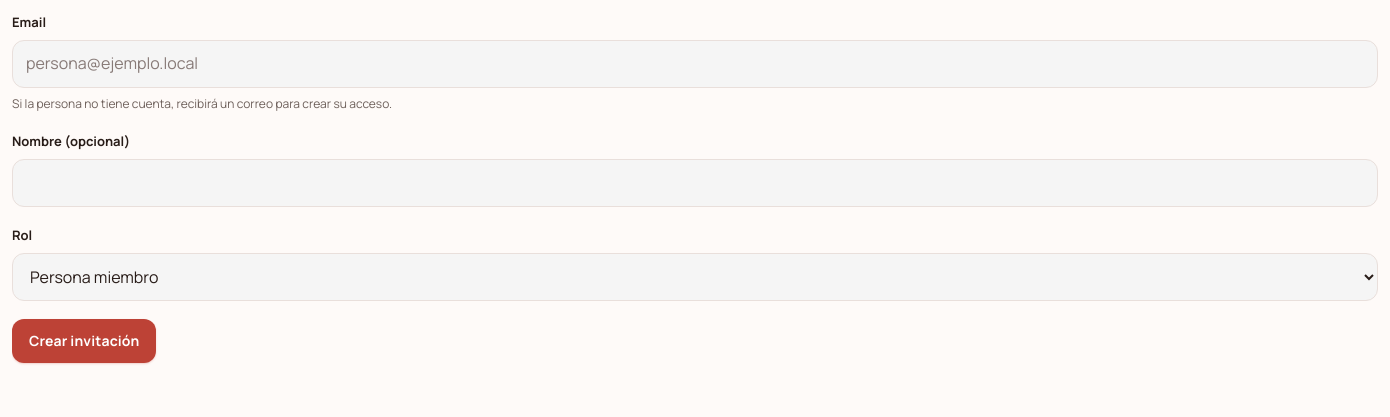
Test: InvitationForm › shows the email delivery message
Step 1. Type "invitee@example.test" into the field labelled "Email" → (695, 64), box [12,40,1378,88]
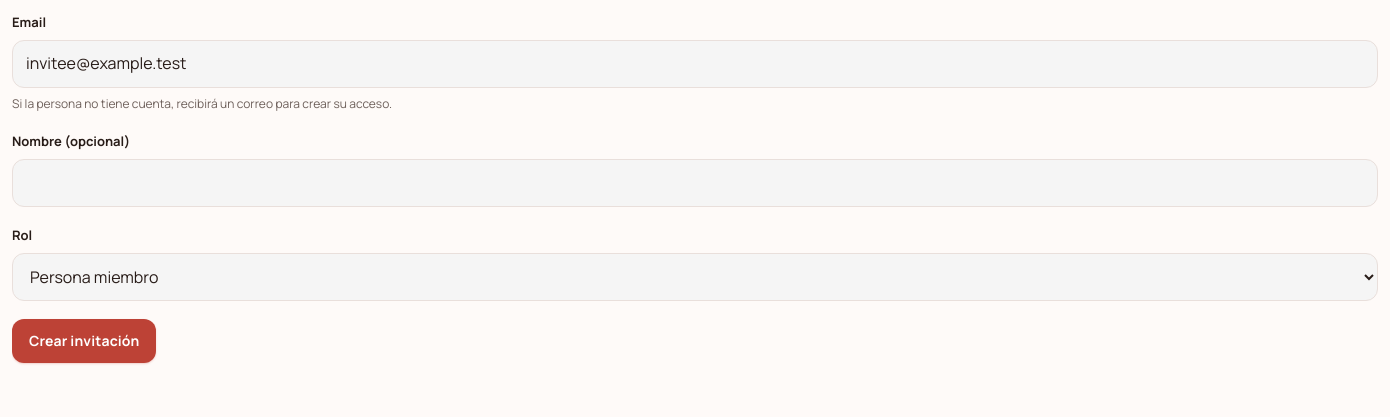
Step 2. Submit the form named "Invitar a una persona al hogar"
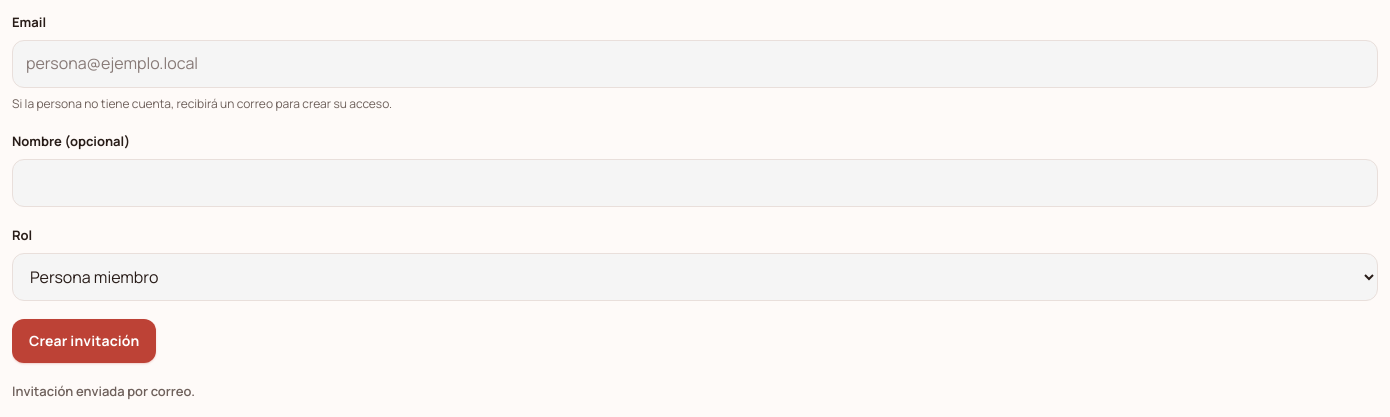
Expected: the message reads "Invitación enviada por correo.", [12,382,195,400]
